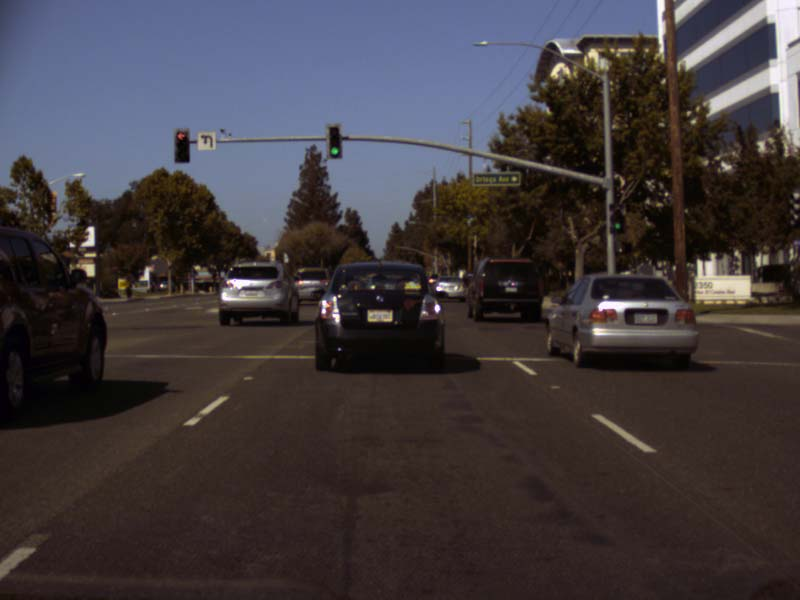Green: (325, 125, 341, 159), (610, 204, 625, 233)
Red: (173, 126, 189, 162)
